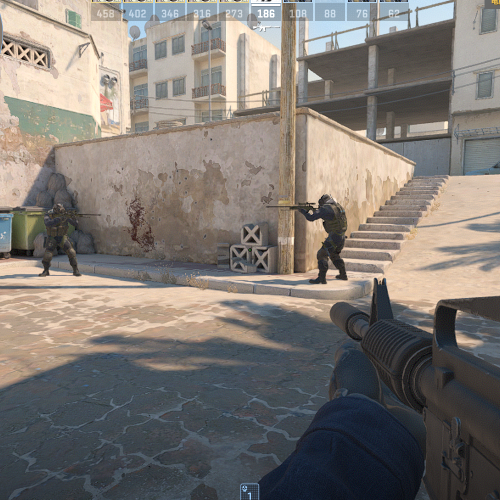ct_body: (305, 193, 349, 285), (40, 203, 83, 277)
ct_head: (317, 192, 332, 208), (51, 203, 66, 216)
